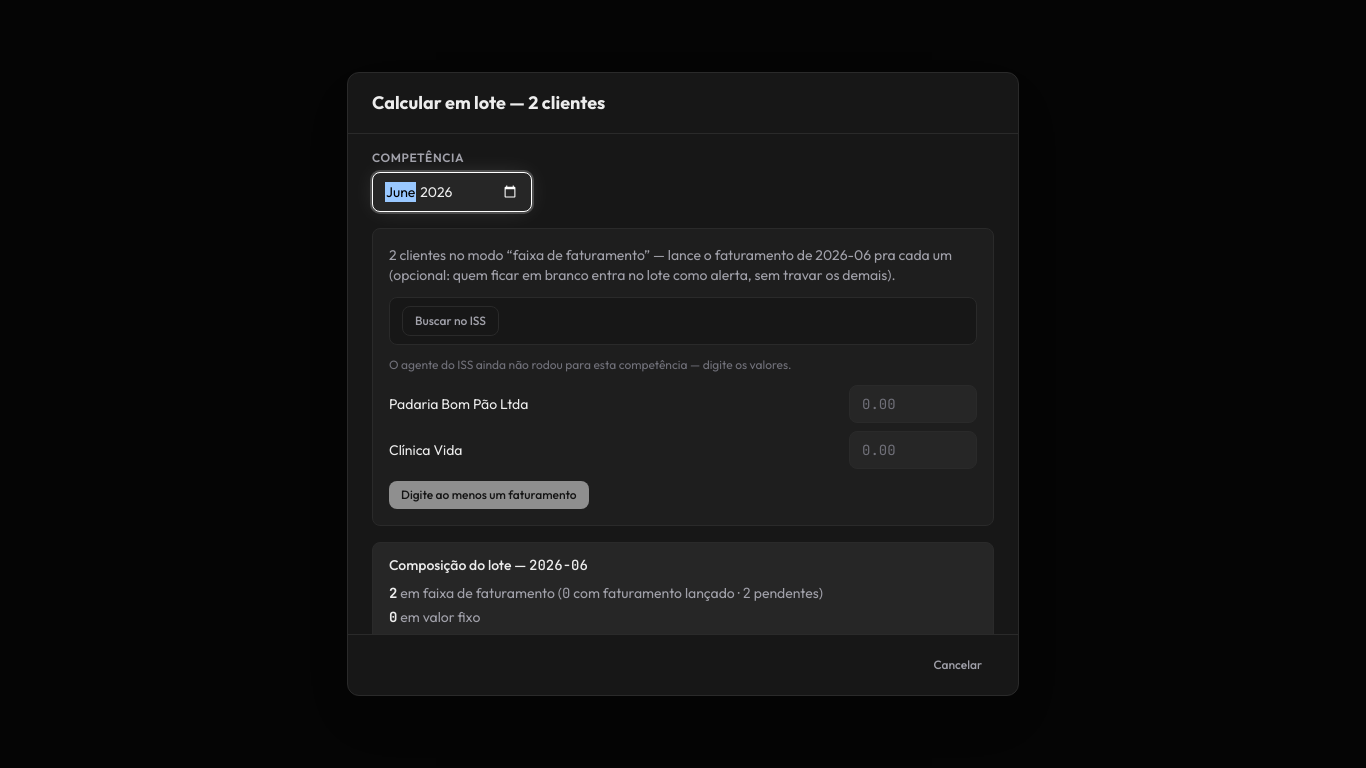
Test case: LoteContabilidadeDialog — busca no ISS pelo sistema (Story 13.5) › nenhum cliente do lote com CPF/CNPJ: não pede a busca (nunca cai na carteira inteira)
The image size is (1366, 768).
Click the button "Buscar no ISS" at [450, 321], box [402,306,499,336]
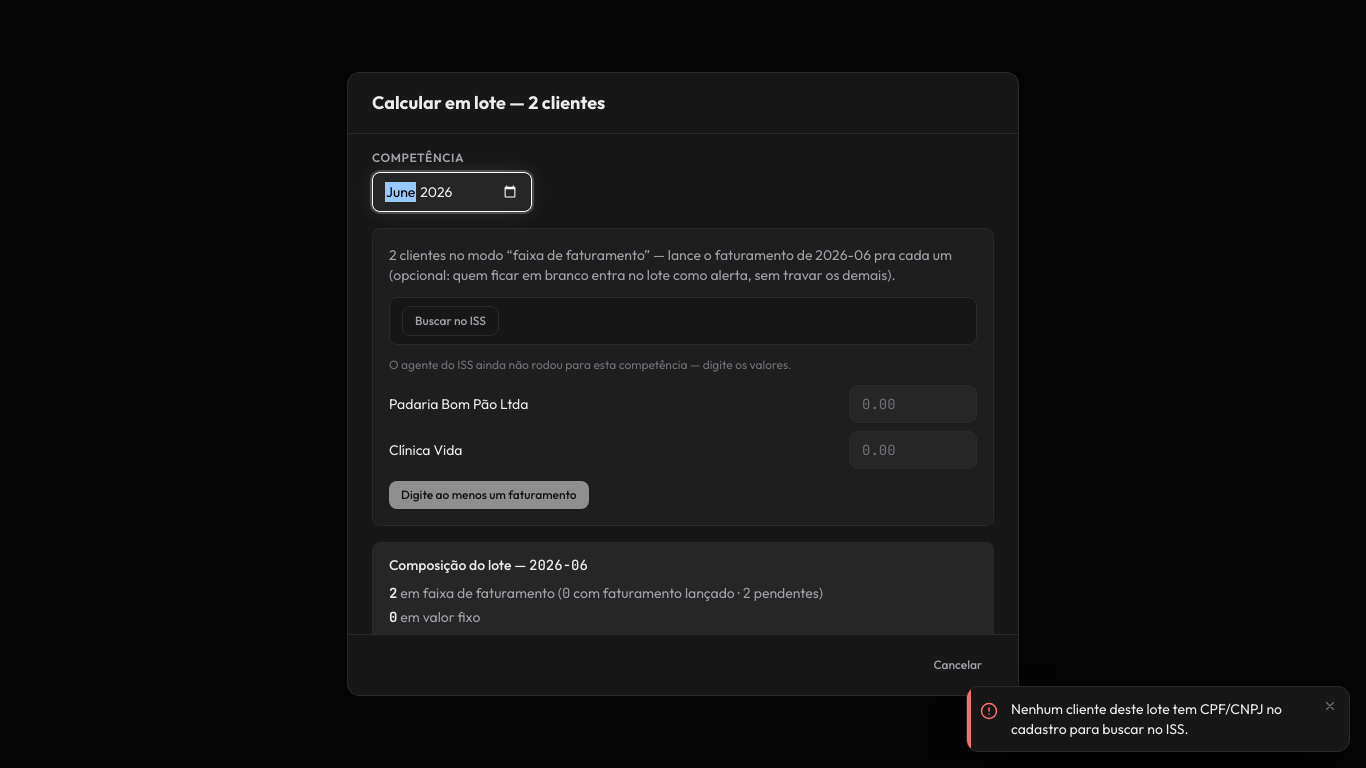
Now the text "Nenhum cliente deste lote tem CPF/CNPJ" is shown, box [1011,700,1282,738]
